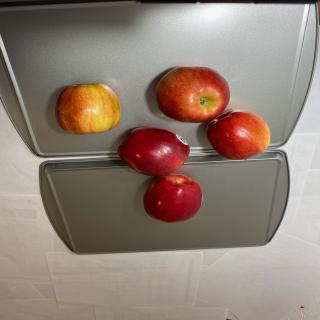Apple: (155, 65, 230, 123), (117, 126, 190, 177), (55, 82, 121, 134), (206, 109, 271, 160), (143, 173, 202, 223)
